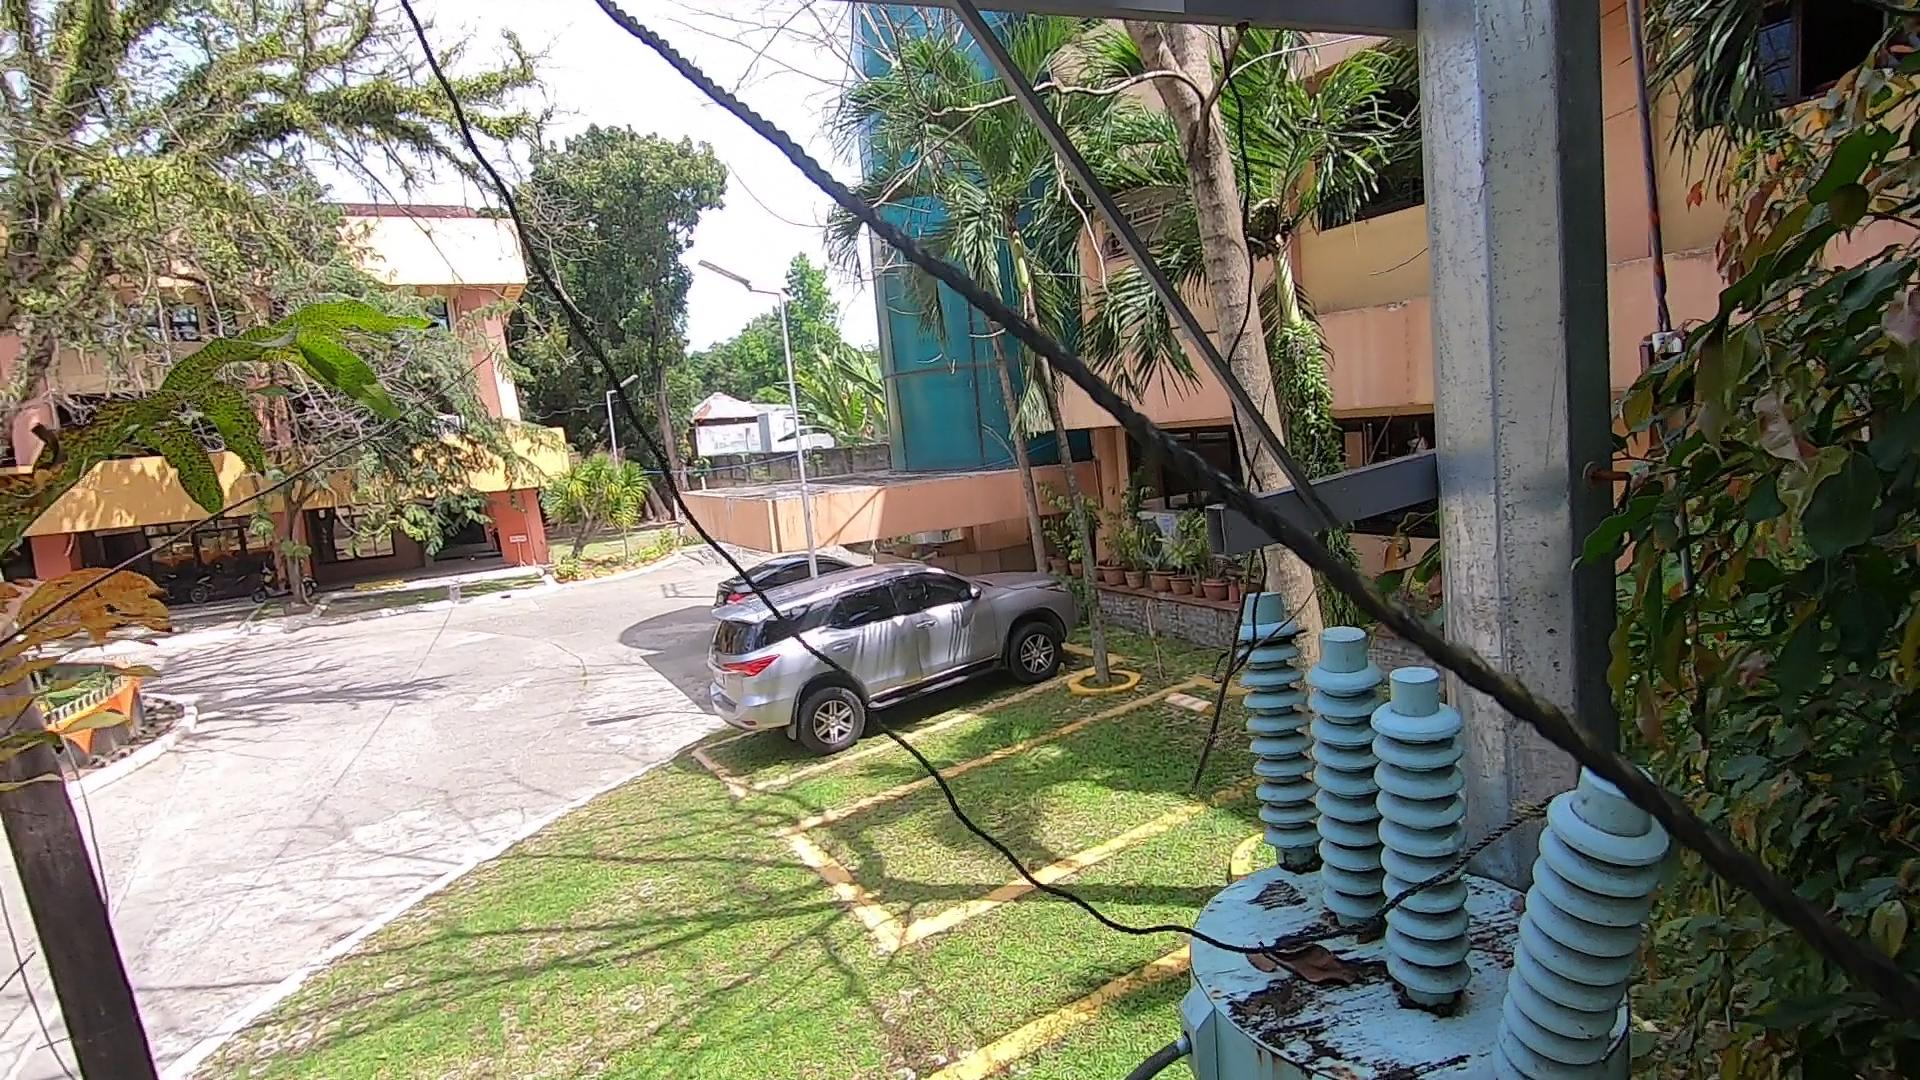leaf: (1226, 924, 1370, 996), (1280, 848, 1327, 878)
tree branch: (1156, 363, 1295, 823)
